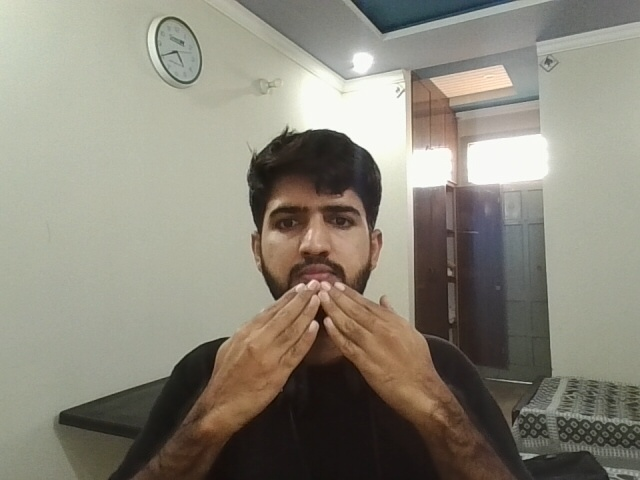Thanks: (164, 273, 511, 442)
